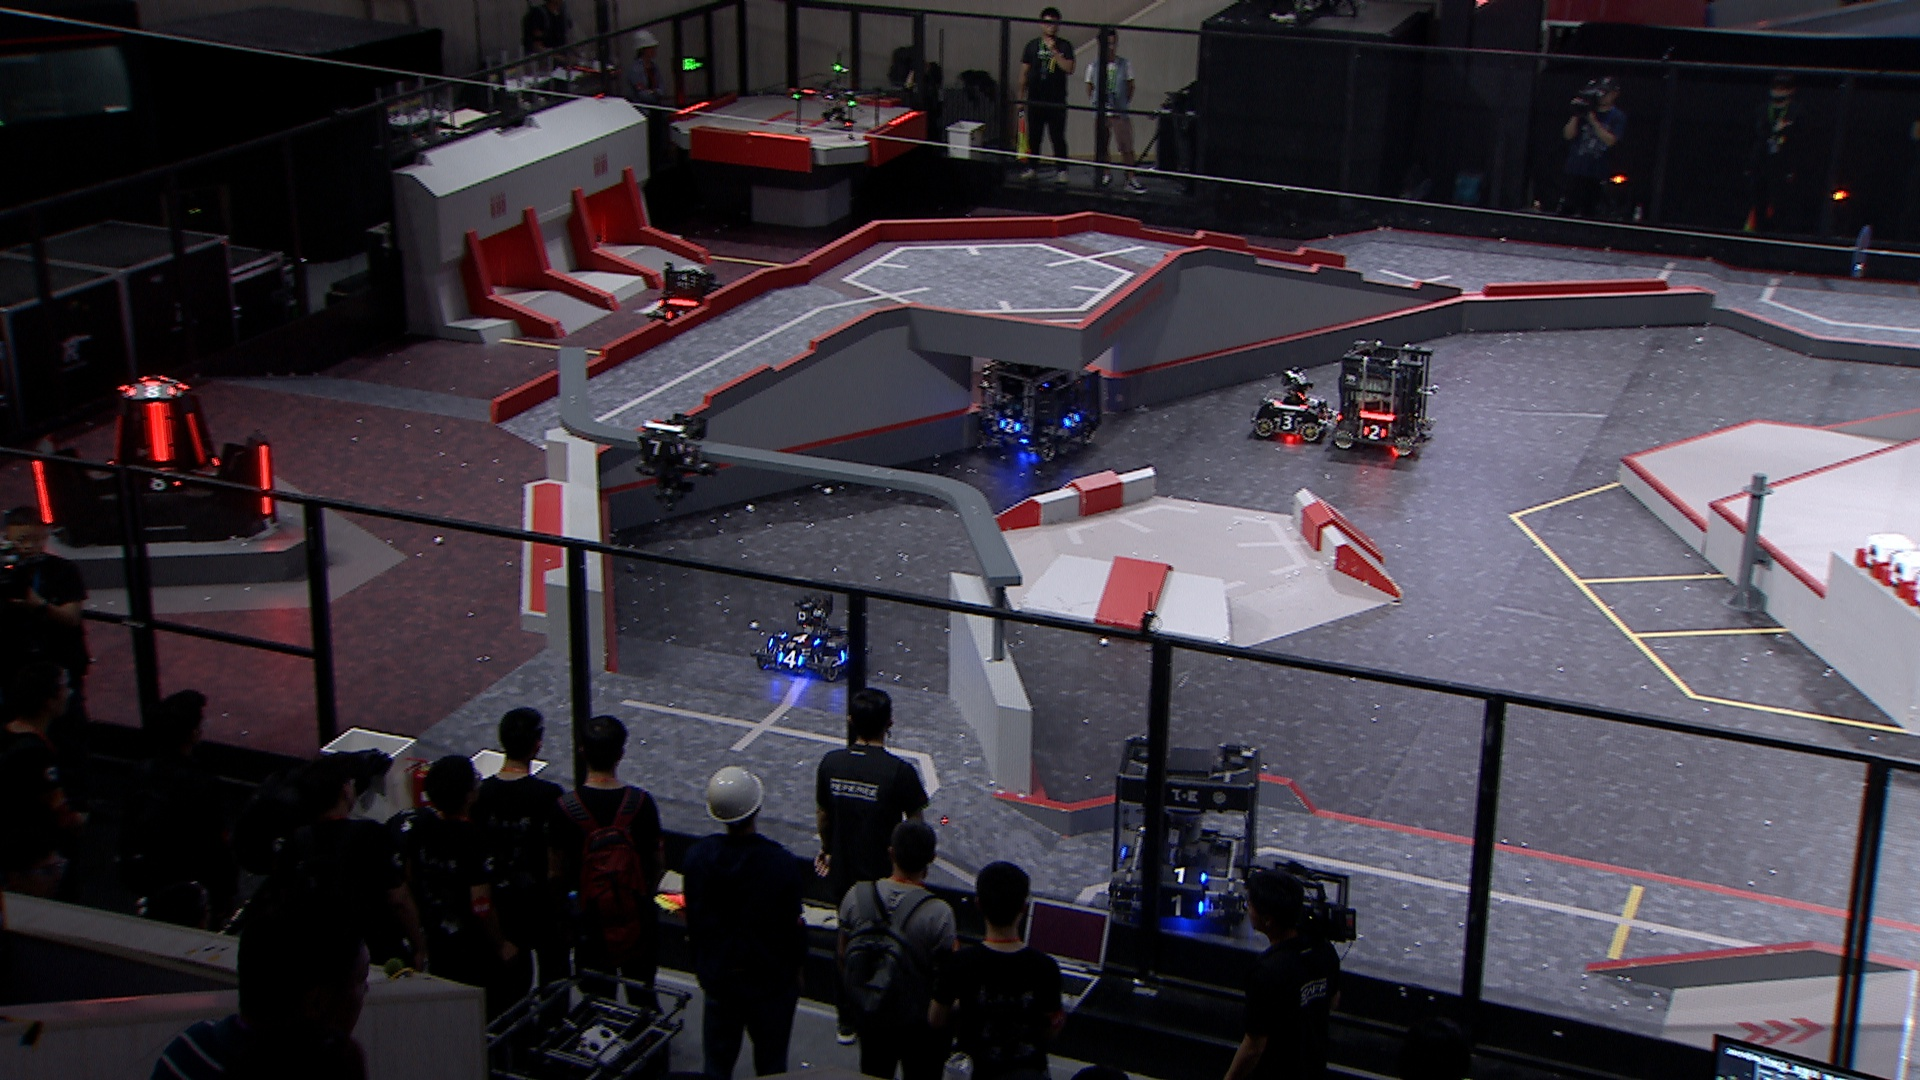armor: (141, 400, 174, 465), (29, 458, 57, 527), (255, 440, 276, 520), (183, 410, 207, 465), (1162, 893, 1207, 920), (1163, 865, 1211, 887), (107, 413, 125, 467), (123, 384, 179, 400), (636, 436, 678, 458), (142, 475, 181, 495), (778, 629, 822, 646), (773, 647, 807, 669), (997, 415, 1025, 436), (1360, 423, 1387, 443), (1059, 410, 1083, 433), (836, 644, 855, 665), (1276, 415, 1299, 433), (662, 309, 686, 323), (1304, 394, 1323, 409)
base: (26, 378, 277, 549)
car: (1102, 732, 1266, 931), (973, 349, 1102, 462), (1332, 338, 1433, 456), (749, 591, 870, 680), (647, 258, 738, 335), (1249, 365, 1338, 440)
watcher: (636, 409, 713, 498)
